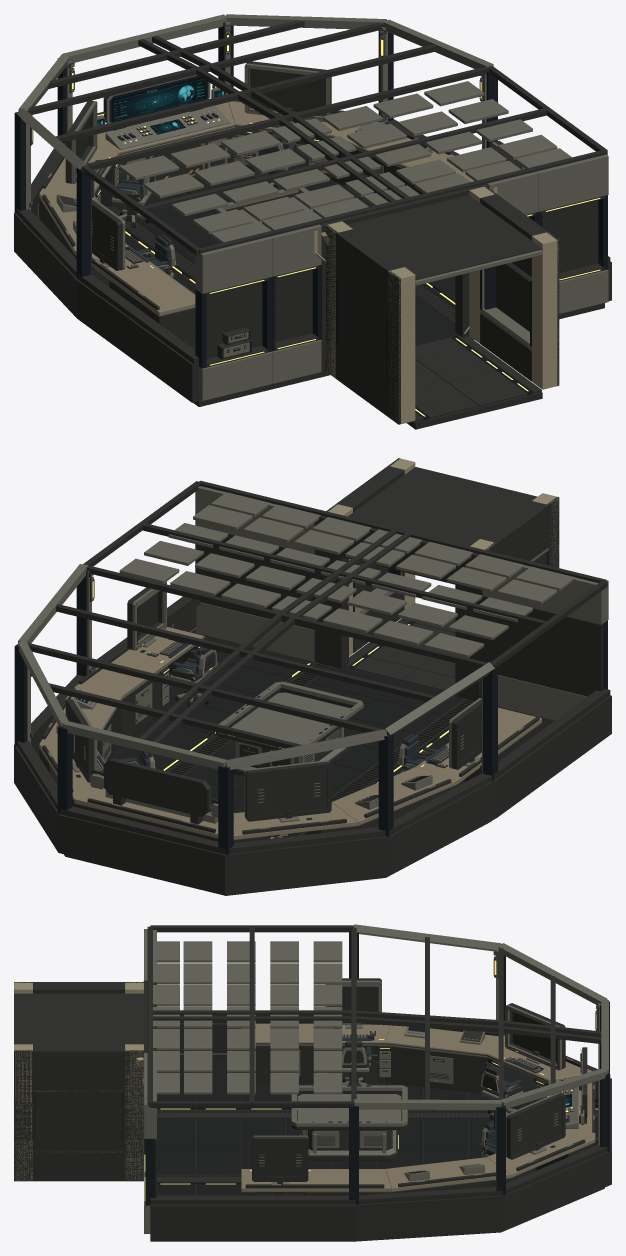
File: cruz-del-sur-bridge-interior.glb
3 renders of one model, top to bottom at view 1: azimuth 30°, elevation 25°; view 2: azimuth 150°, elevation 25°; view 3: azimuth 270°, elevation 25°, orthographic. The views are drawn at different scales.
Visible parts, largest first — view 1: BRIDGE_RUNTIME_BRIDGE_V15_Graphite_, BRIDGE_RUNTIME_BRIDGE_V15_Metal_, BRIDGE_RUNTIME_BRIDGE_V15_Gasket_, BRIDGE_RUNTIME_BRIDGE_V15_Ivory_, BRIDGE_RUNTIME_BRIDGE_Counter_finish_, BRIDGE_RUNTIME_BRIDGE_Deck_finish_, BRIDGE_RUNTIME_BRIDGE_Central_navigation_, BRIDGE_RUNTIME_BRIDGE_V15_Graphite_communications, BRIDGE_RUNTIME_BRIDGE_V15_Graphite_arcade, BRIDGE_RUNTIME_BRIDGE_V15_Graphite_computer, BRIDGE_RUNTIME_BRIDGE_Upholstery_, BRIDGE_RUNTIME_BRIDGE_V15_Amber_ (+3 smaller); view 2: BRIDGE_RUNTIME_BRIDGE_V15_Graphite_, BRIDGE_RUNTIME_BRIDGE_V15_Metal_, BRIDGE_RUNTIME_BRIDGE_Deck_finish_, BRIDGE_RUNTIME_BRIDGE_Counter_finish_, BRIDGE_RUNTIME_BRIDGE_V15_Gasket_, BRIDGE_RUNTIME_BRIDGE_V15_Metal_tactical, BRIDGE_RUNTIME_BRIDGE_V15_Graphite_computer, BRIDGE_RUNTIME_BRIDGE_V15_Graphite_arcade, BRIDGE_RUNTIME_BRIDGE_V15_Graphite_tactical, BRIDGE_RUNTIME_BRIDGE_V15_Graphite_personal, BRIDGE_RUNTIME_BRIDGE_V15_Ivory_, BRIDGE_RUNTIME_BRIDGE_Upholstery_ (+2 smaller); view 3: BRIDGE_RUNTIME_BRIDGE_V15_Graphite_, BRIDGE_RUNTIME_BRIDGE_V15_Metal_, BRIDGE_RUNTIME_BRIDGE_Deck_finish_, BRIDGE_RUNTIME_BRIDGE_Counter_finish_, BRIDGE_RUNTIME_BRIDGE_V15_Gasket_, BRIDGE_RUNTIME_BRIDGE_V15_Metal_tactical, BRIDGE_RUNTIME_BRIDGE_V15_Ivory_, BRIDGE_RUNTIME_BRIDGE_V15_Graphite_personal, BRIDGE_RUNTIME_BRIDGE_V15_Graphite_communications, BRIDGE_RUNTIME_BRIDGE_V15_Graphite_tactical, BRIDGE_RUNTIME_BRIDGE_V15_Graphite_computer, BRIDGE_RUNTIME_BRIDGE_V15_Graphite_arcade (+4 smaller).
Boxes of the visible parts, x1,y1,x2,y2 form: BRIDGE_RUNTIME_BRIDGE_V15_Graphite_: (14, 20, 611, 429); BRIDGE_RUNTIME_BRIDGE_V15_Metal_: (17, 14, 608, 400); BRIDGE_RUNTIME_BRIDGE_V15_Gasket_: (14, 22, 607, 420); BRIDGE_RUNTIME_BRIDGE_V15_Ivory_: (98, 110, 558, 423); BRIDGE_RUNTIME_BRIDGE_Counter_finish_: (39, 101, 474, 316); BRIDGE_RUNTIME_BRIDGE_Deck_finish_: (115, 148, 458, 400); BRIDGE_RUNTIME_BRIDGE_Central_navigation_: (97, 77, 225, 134); BRIDGE_RUNTIME_BRIDGE_V15_Graphite_communications: (232, 61, 344, 137); BRIDGE_RUNTIME_BRIDGE_V15_Graphite_arcade: (92, 199, 159, 310); BRIDGE_RUNTIME_BRIDGE_V15_Graphite_computer: (42, 100, 120, 188); BRIDGE_RUNTIME_BRIDGE_Upholstery_: (99, 125, 296, 268); BRIDGE_RUNTIME_BRIDGE_V15_Amber_: (32, 35, 600, 416); BRIDGE_RUNTIME_BRIDGE_V15_Graphite_: (14, 458, 611, 895); BRIDGE_RUNTIME_BRIDGE_V15_Metal_: (18, 486, 608, 838); BRIDGE_RUNTIME_BRIDGE_Deck_finish_: (112, 633, 554, 835); BRIDGE_RUNTIME_BRIDGE_Counter_finish_: (39, 627, 541, 839); BRIDGE_RUNTIME_BRIDGE_V15_Gasket_: (14, 551, 607, 854); BRIDGE_RUNTIME_BRIDGE_V15_Metal_tactical: (217, 681, 363, 770); BRIDGE_RUNTIME_BRIDGE_V15_Graphite_computer: (242, 761, 346, 834); BRIDGE_RUNTIME_BRIDGE_V15_Graphite_arcade: (435, 699, 539, 776); BRIDGE_RUNTIME_BRIDGE_V15_Graphite_tactical: (215, 687, 363, 776); BRIDGE_RUNTIME_BRIDGE_V15_Graphite_personal: (79, 583, 176, 722); BRIDGE_RUNTIME_BRIDGE_V15_Ivory_: (114, 458, 559, 808); BRIDGE_RUNTIME_BRIDGE_Upholstery_: (97, 643, 447, 767); BRIDGE_RUNTIME_BRIDGE_V15_Graphite_: (14, 925, 611, 1241); BRIDGE_RUNTIME_BRIDGE_V15_Metal_: (34, 924, 608, 1233); BRIDGE_RUNTIME_BRIDGE_Deck_finish_: (157, 1058, 598, 1195); BRIDGE_RUNTIME_BRIDGE_Counter_finish_: (241, 1023, 595, 1191); BRIDGE_RUNTIME_BRIDGE_V15_Gasket_: (33, 930, 609, 1205); BRIDGE_RUNTIME_BRIDGE_V15_Metal_tactical: (291, 1085, 407, 1155); BRIDGE_RUNTIME_BRIDGE_V15_Ivory_: (14, 981, 572, 1180); BRIDGE_RUNTIME_BRIDGE_V15_Graphite_personal: (245, 1136, 384, 1188); BRIDGE_RUNTIME_BRIDGE_V15_Graphite_communications: (507, 1093, 585, 1170); BRIDGE_RUNTIME_BRIDGE_V15_Graphite_tactical: (291, 1086, 407, 1160); BRIDGE_RUNTIME_BRIDGE_V15_Graphite_computer: (485, 1003, 580, 1073); BRIDGE_RUNTIME_BRIDGE_V15_Graphite_arcade: (255, 978, 381, 1072).
Size of the model in its own units: 9.92 by 3.62 by 13.81.
Materials: 11 (6 with a texture image).
